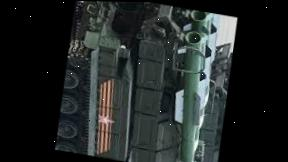rszo: (51, 1, 225, 162)
